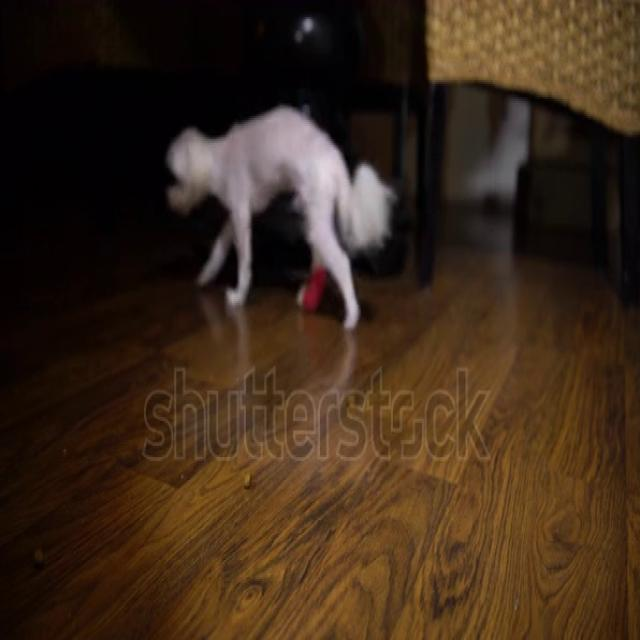injured-animals: (160, 97, 399, 335)
